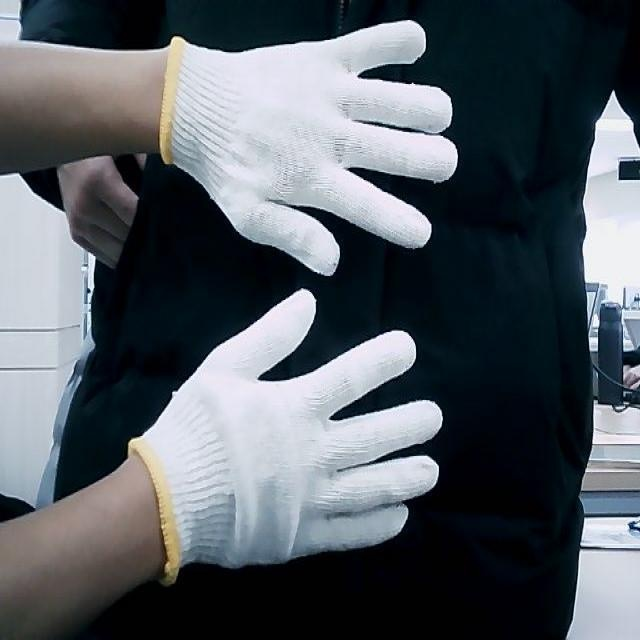Guantes: (130, 290, 445, 582), (161, 20, 461, 276)
